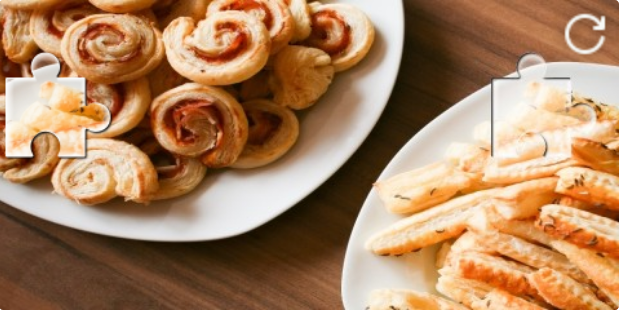target: (491, 52, 596, 156)
